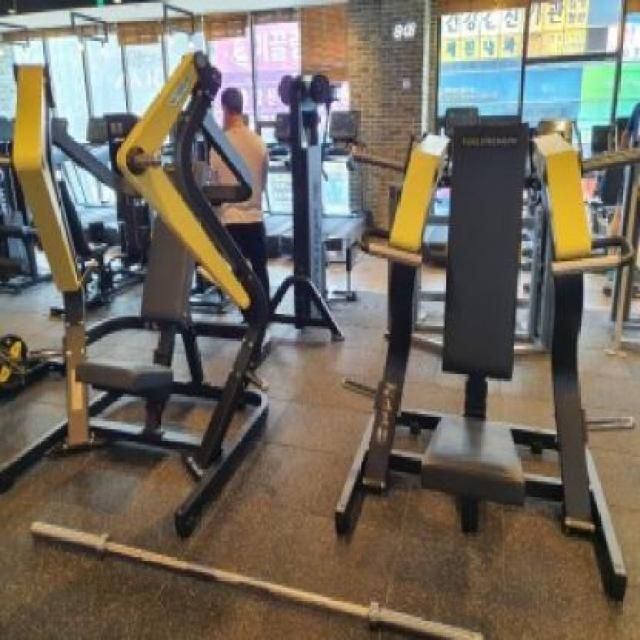Chest Press machine: (320, 86, 640, 603)
